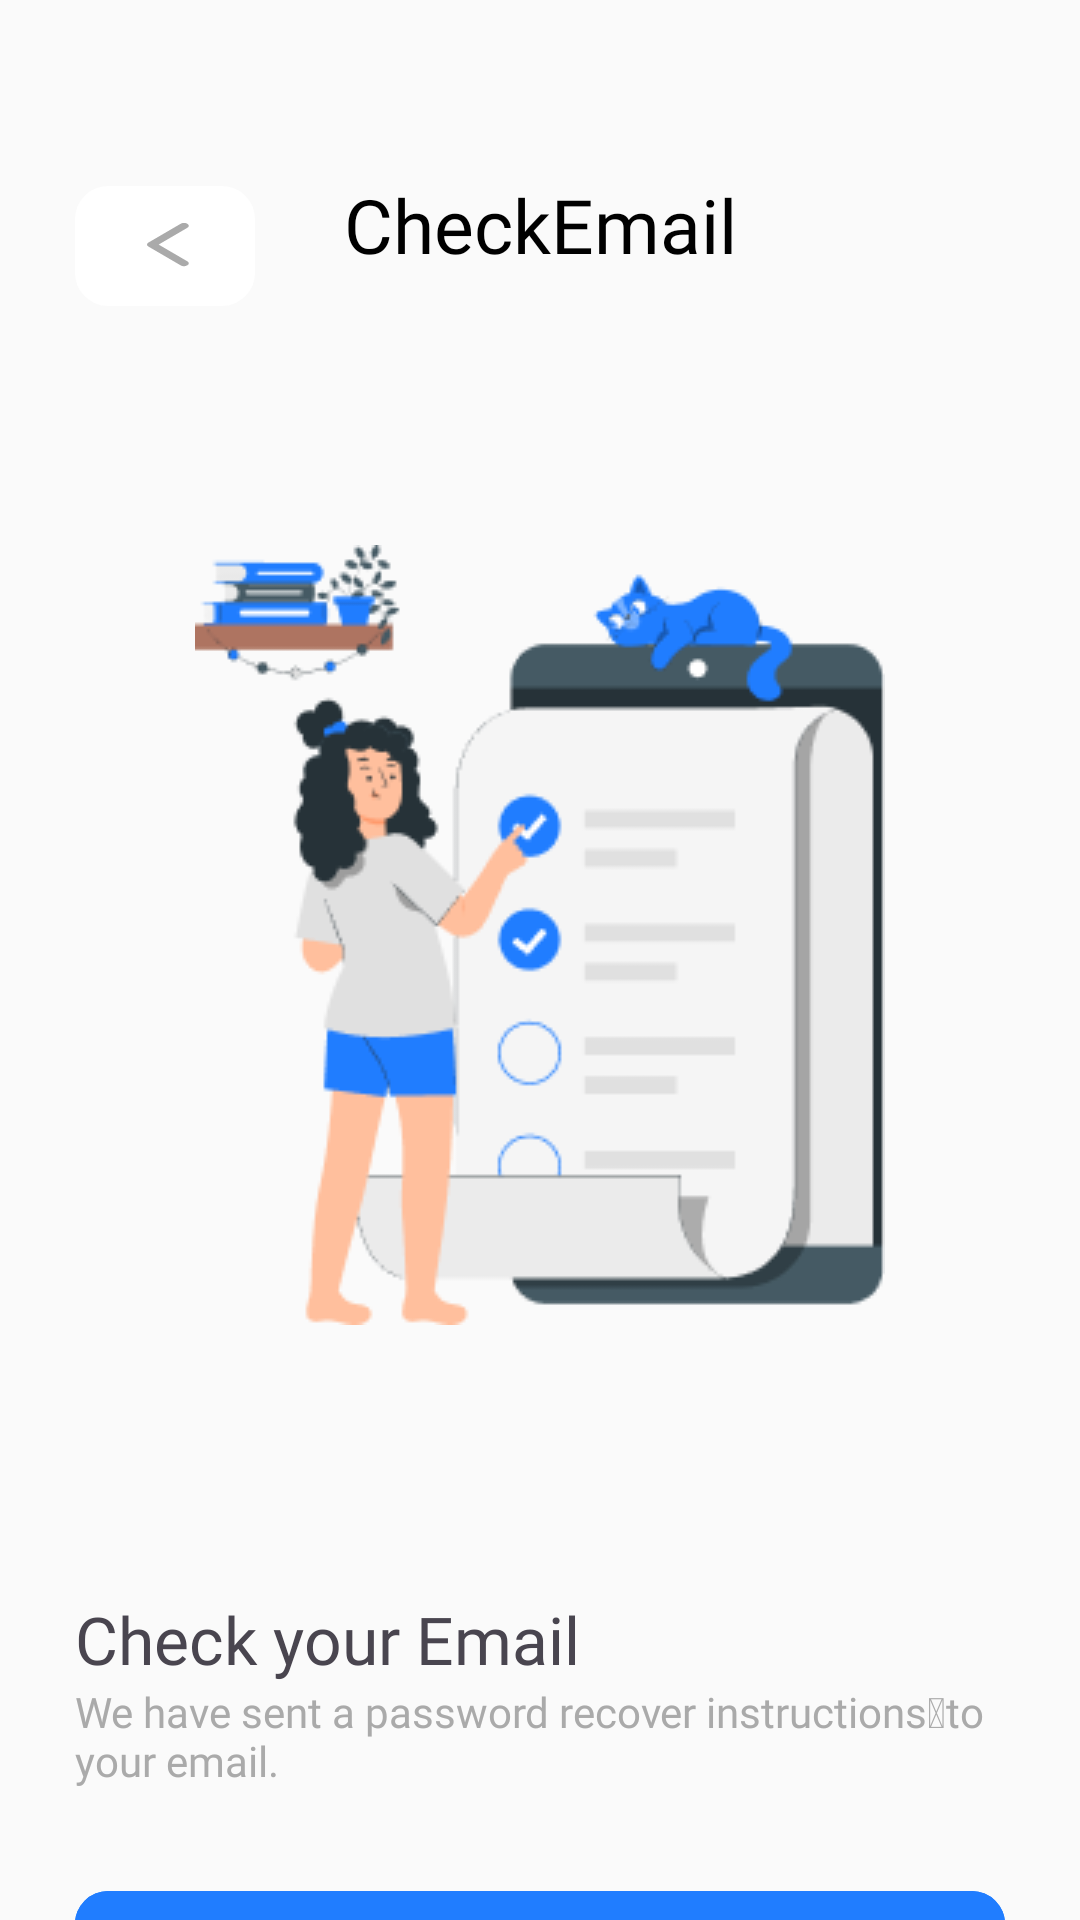

Point at icon controls on the screen. Image size 1080w x 1920h, points as (x,y).
back: (168,244)
